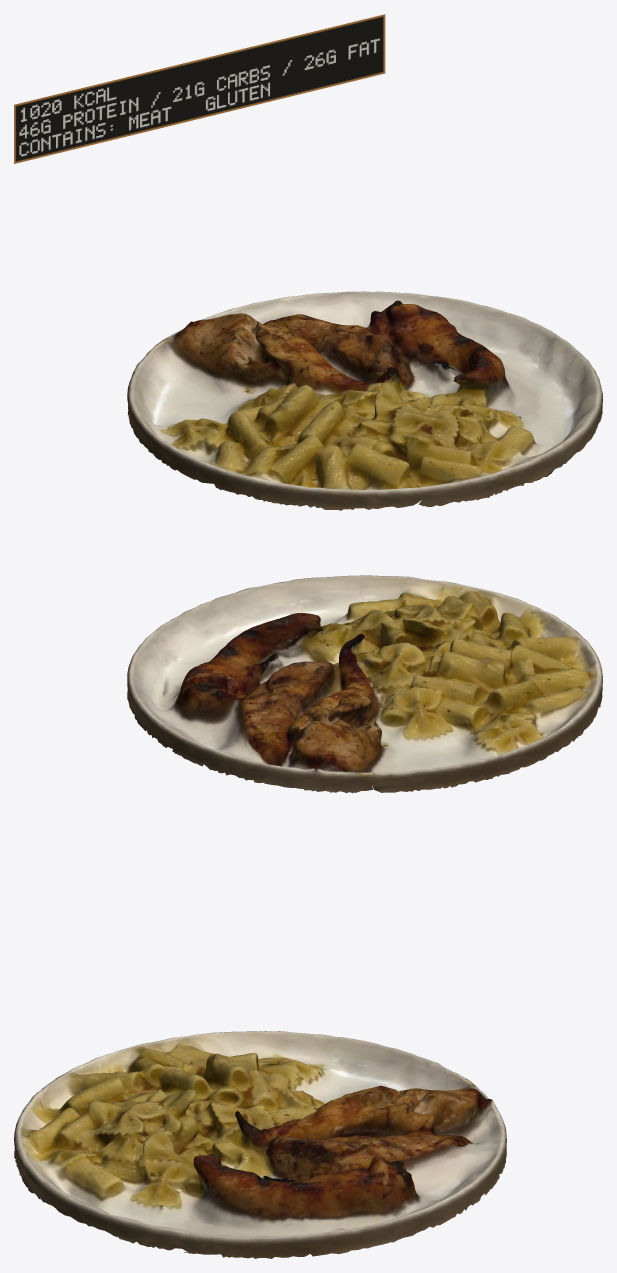
The picture shows the model from 3 angles, top to bottom: view 1: azimuth 30°, elevation 25°; view 2: azimuth 150°, elevation 25°; view 3: azimuth 270°, elevation 25°; orthographic projection. The views are drawn at different scales.
Parts seen in each view (by area): view 1: geom, nutrition-panel-node; view 2: geom; view 3: geom.
Boxes of the visible parts, <box> form: geom: <box>127,291,602,510</box>; nutrition-panel-node: <box>14,14,385,163</box>; geom: <box>127,575,602,793</box>; geom: <box>14,1031,506,1258</box>.
Size of the model in its own units: 0.2841 by 0.1598 by 0.3403.
Materials: 2 (2 with a texture image).
